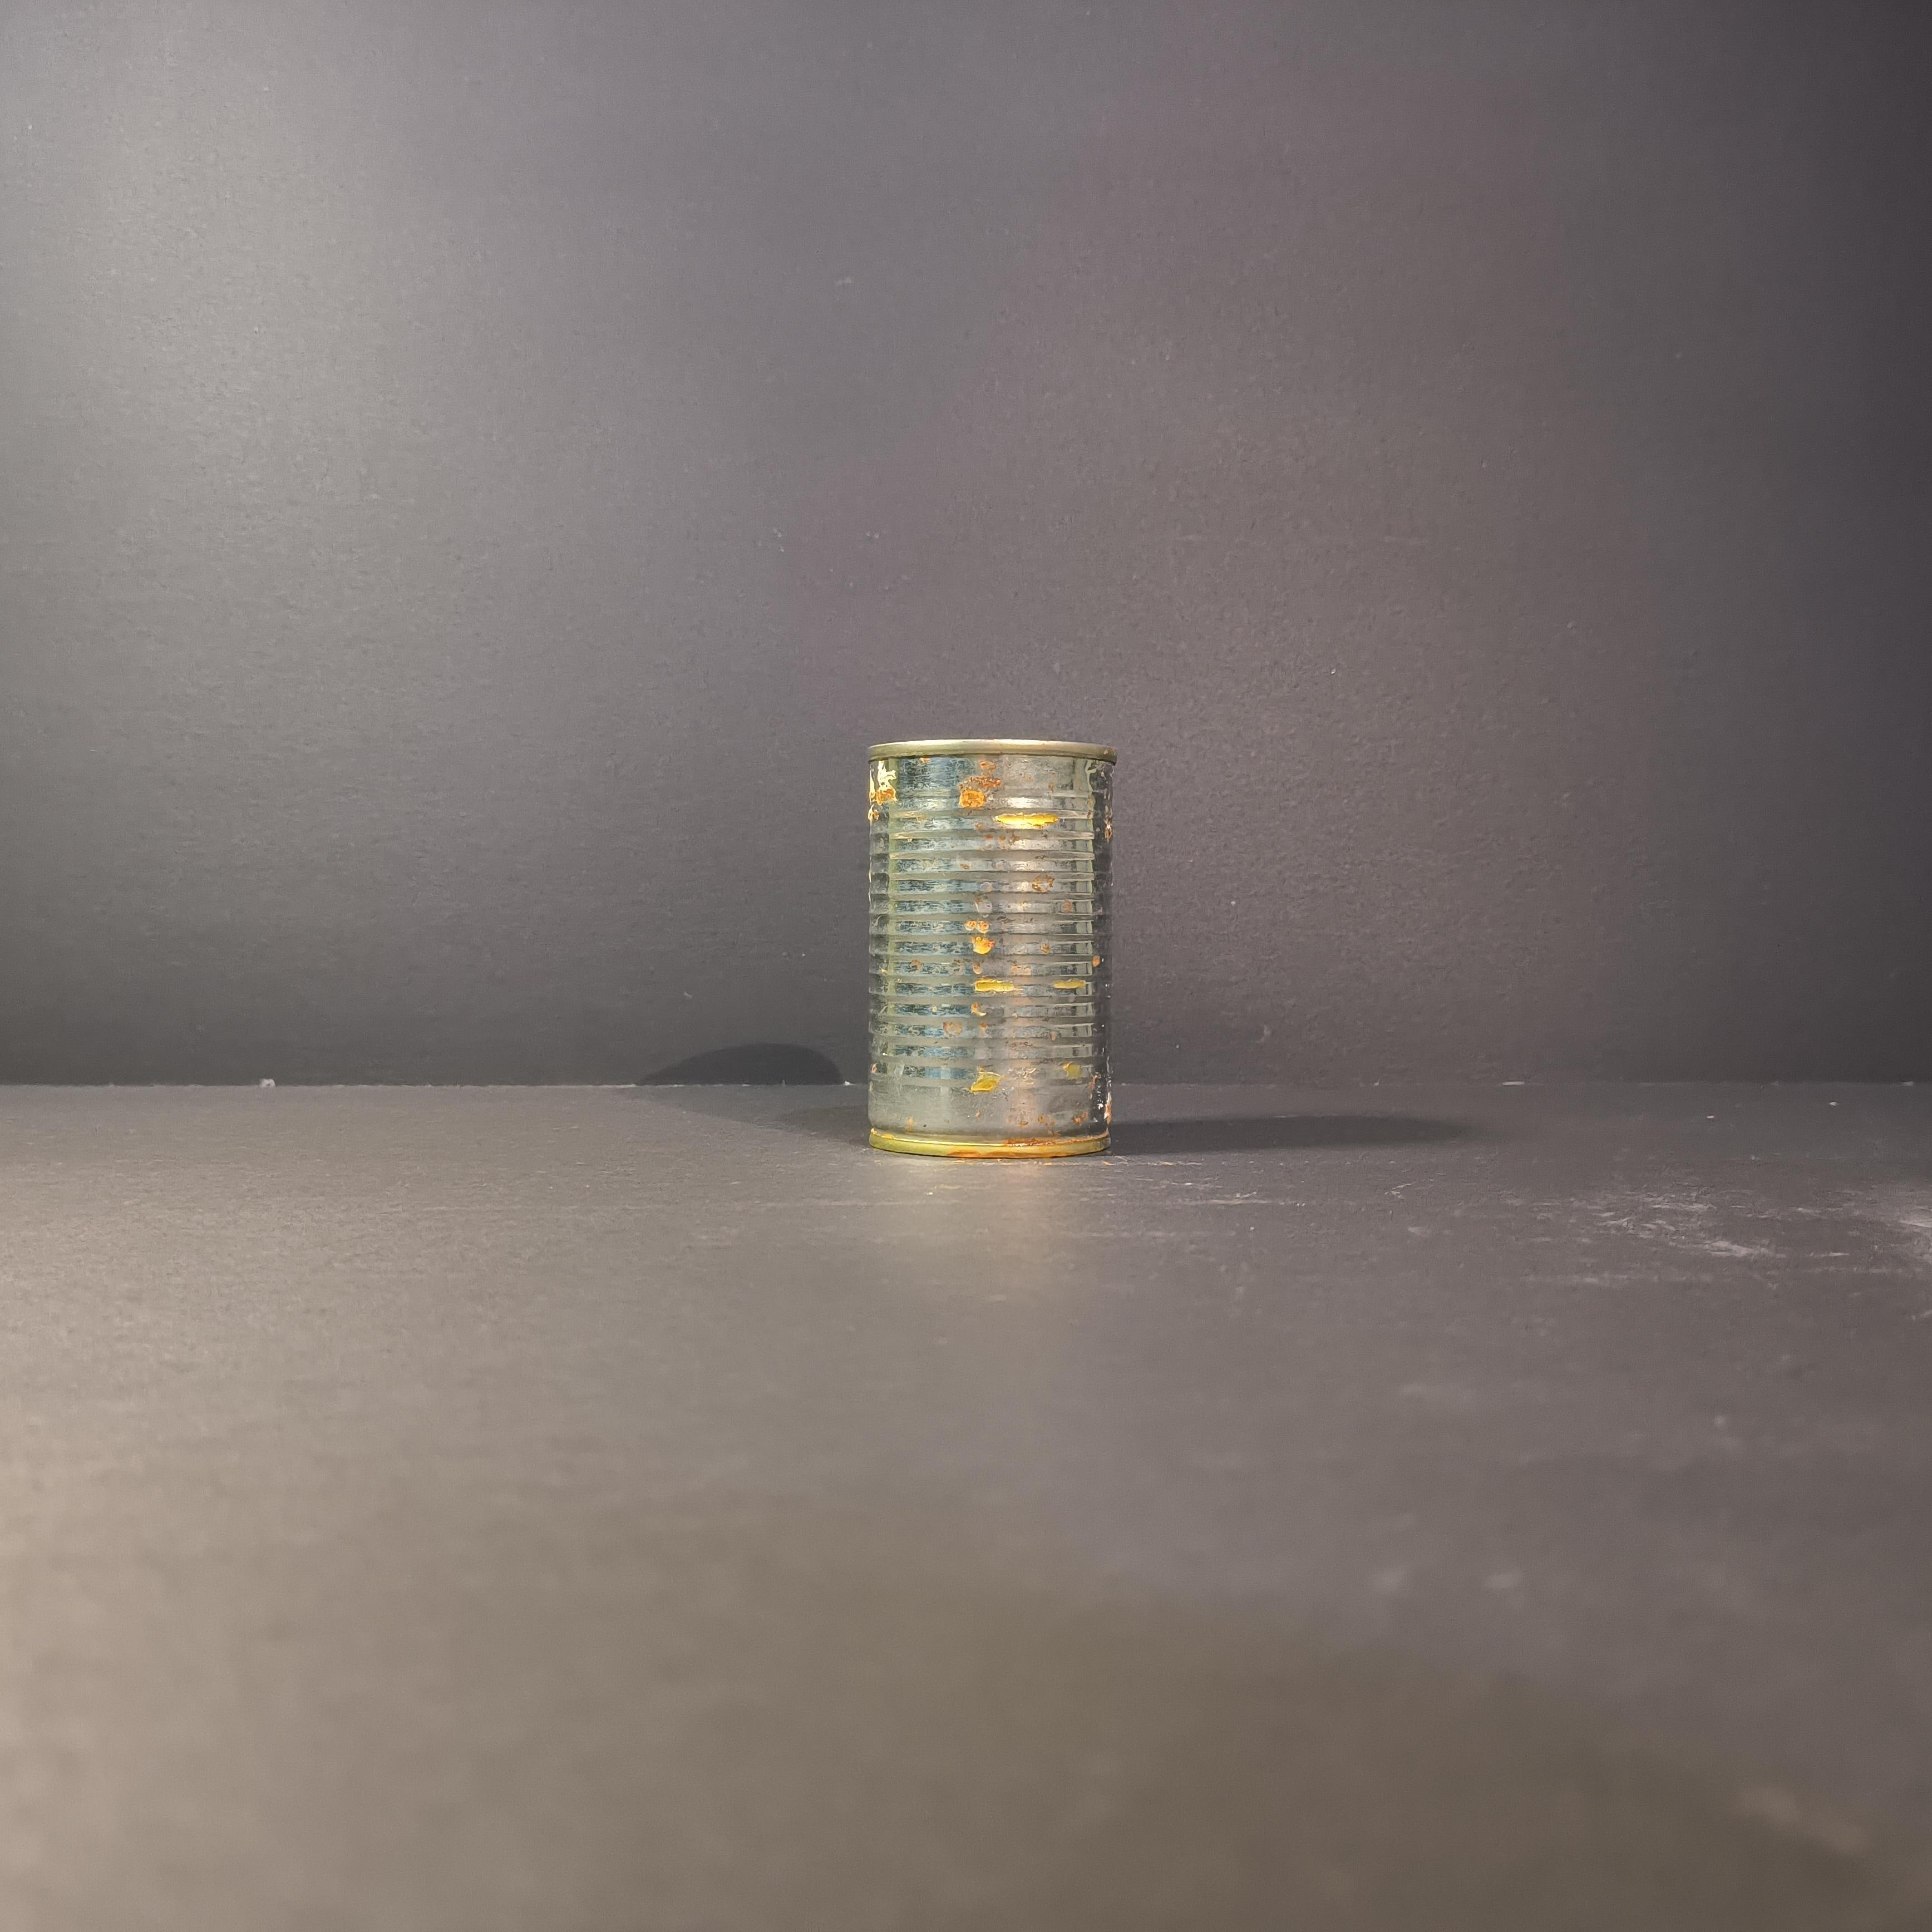Rusted: (840, 715, 1155, 1182)
